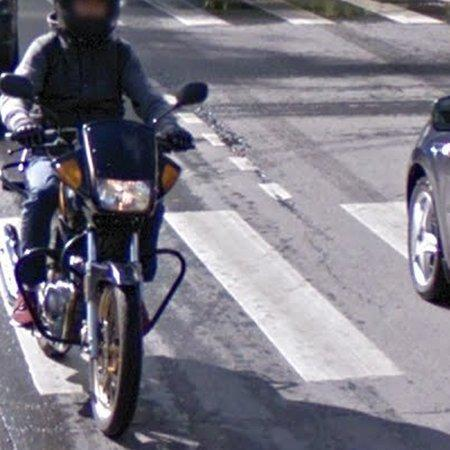motorcycles: (1, 82, 208, 437)
